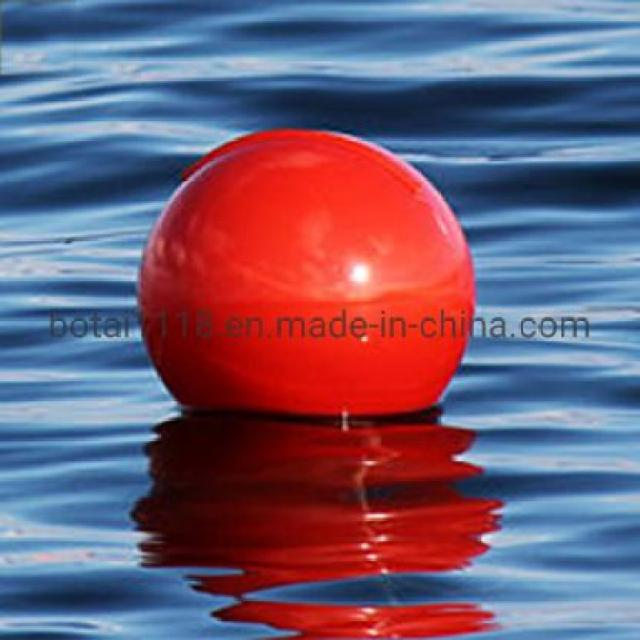a: (124, 116, 501, 427)
